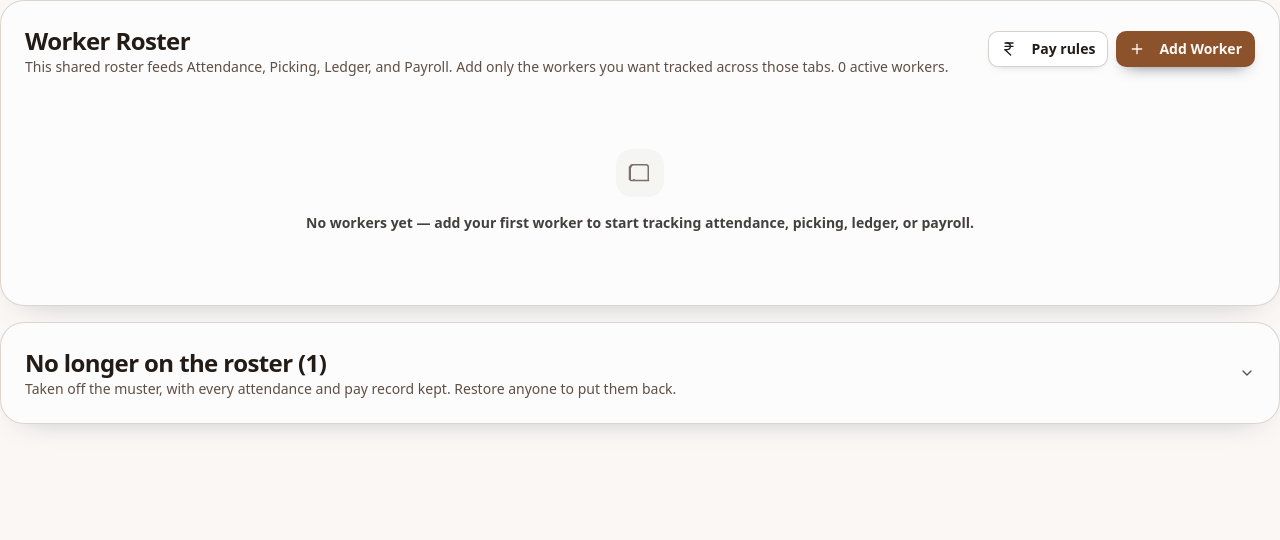
Scenario: a worker taken off the roster can be found and put back › opens to show who it is, and why restoring beats re-typing the name
Click the button "No longer on the roster": point(165, 362) [25, 347, 1255, 399]
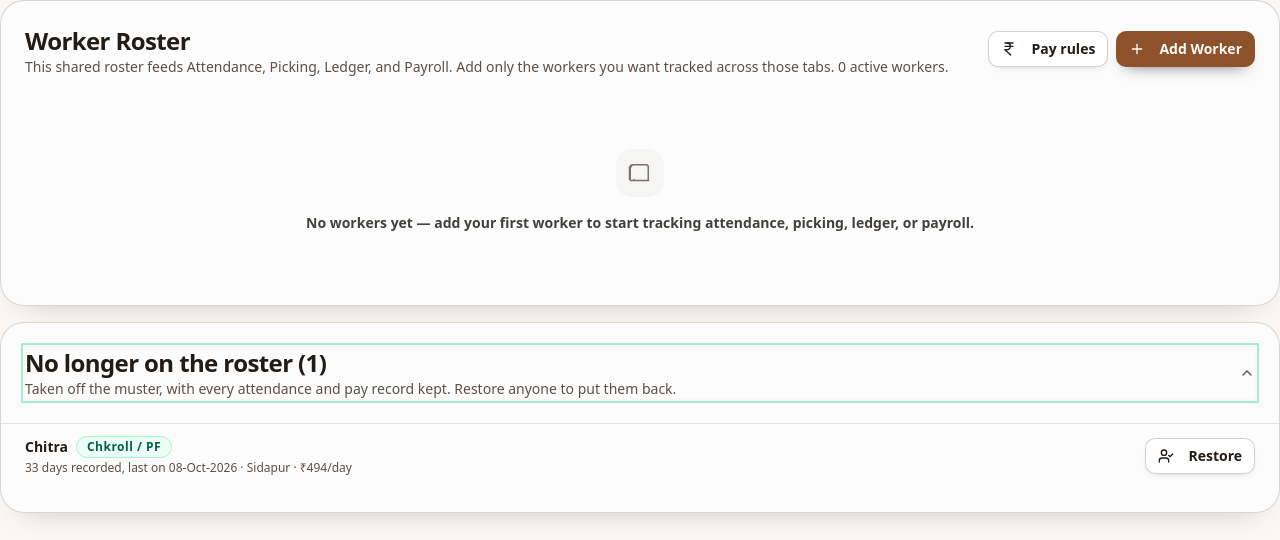
Check: the text "Chitra" is shown, box [25, 437, 68, 457]
Check: the text "33 days recorded, last on 08-Oct-2026 · Sidapur · ₹494/day" is shown, box [25, 459, 352, 476]
